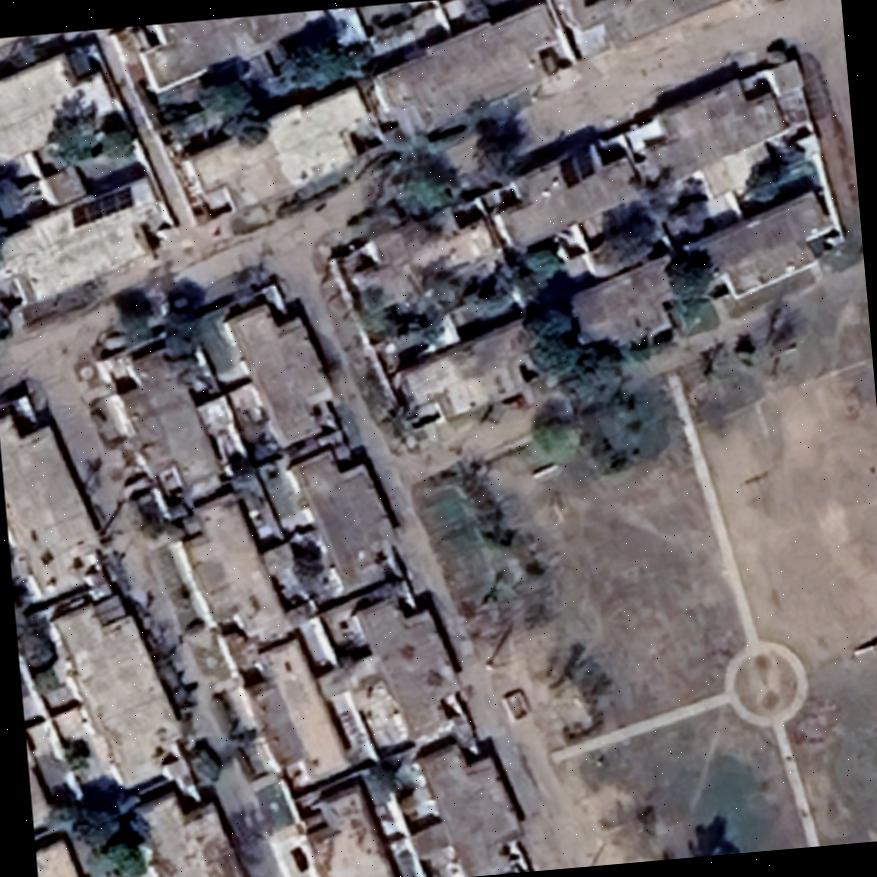Solarpanel: (63, 180, 140, 232), (575, 0, 649, 9)
